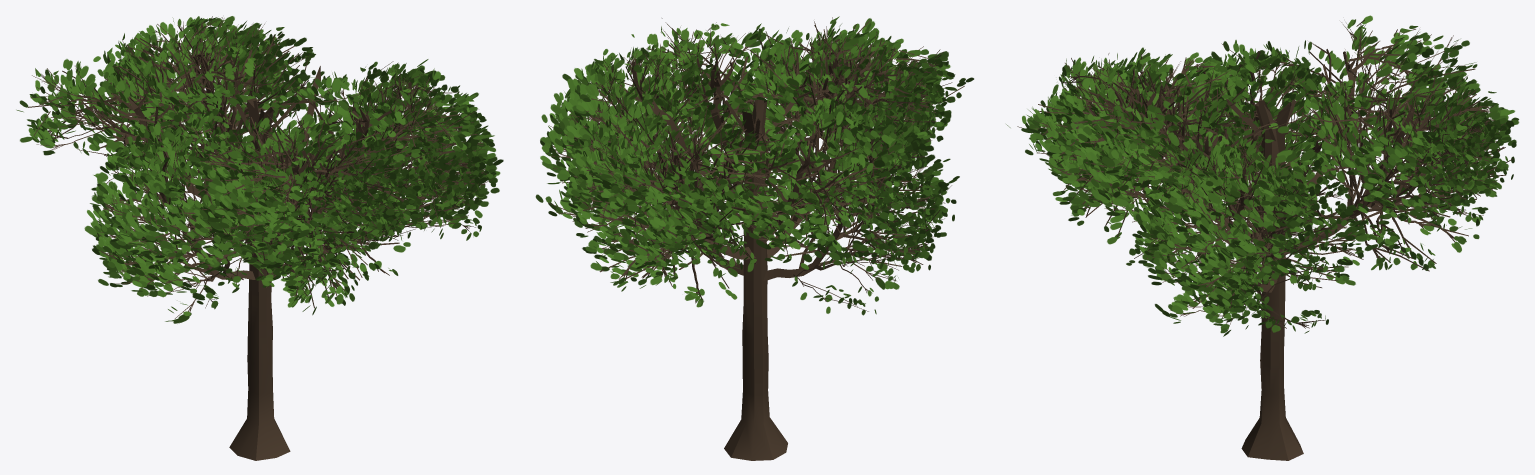
The picture shows the model from 3 angles, left to right: view 1: azimuth 30°, elevation 25°; view 2: azimuth 150°, elevation 25°; view 3: azimuth 270°, elevation 25°; orthographic projection.
Visible parts, largest first — view 1: oak 01.001_trunk_Mat.001_0.132; view 2: oak 01.001_trunk_Mat.001_0.132; view 3: oak 01.001_trunk_Mat.001_0.132.
Part boxes in pixels (box(x1,y1,x2,y2)): oak 01.001_trunk_Mat.001_0.132: box(16, 16, 503, 460); oak 01.001_trunk_Mat.001_0.132: box(535, 16, 973, 460); oak 01.001_trunk_Mat.001_0.132: box(1006, 15, 1519, 460).
Size of the model in its own units: 4.59 by 3.75 by 4.8.
2 materials, 1 textured.
